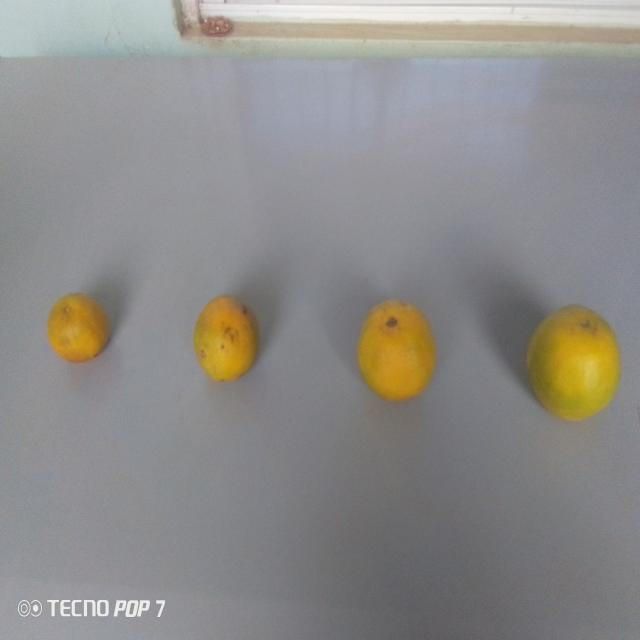Ripe orange: (524, 289, 630, 440), (352, 285, 442, 416), (184, 284, 266, 383), (46, 285, 117, 379)
